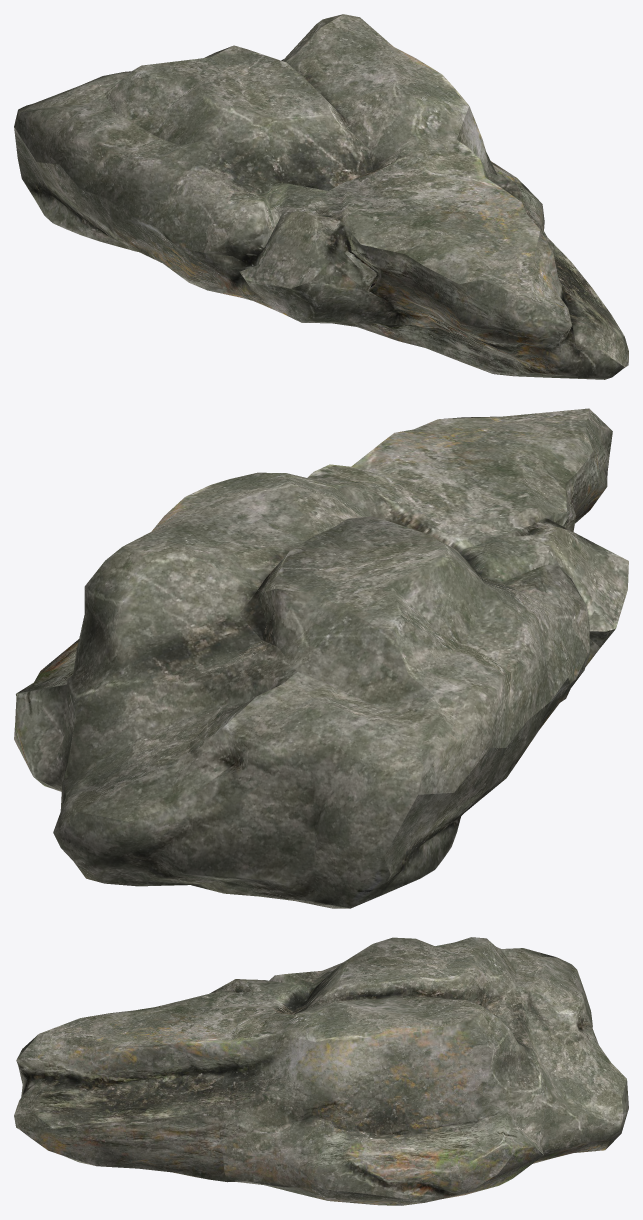
Rendered from Rock2.FBX.
3 views of the same model, one above another, from view 1: azimuth 30°, elevation 25°; view 2: azimuth 150°, elevation 25°; view 3: azimuth 270°, elevation 25° (orthographic). The views are drawn at different scales.
Parts seen in each view (by area): view 1: Obj_Stone_01; view 2: Obj_Stone_01; view 3: Obj_Stone_01.
Boxes of the visible parts, left/top/right/bottom form: Obj_Stone_01: left=14, top=14, right=628, bottom=379; Obj_Stone_01: left=14, top=408, right=628, bottom=908; Obj_Stone_01: left=14, top=937, right=628, bottom=1205.
Bounding box in the file's own units: 110 × 54.91 × 184.
1 material, 1 textured.
